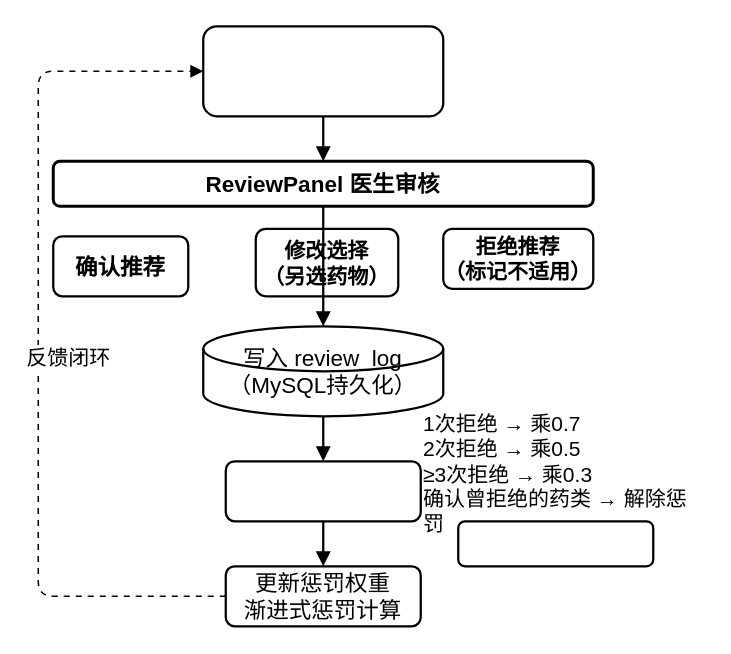
Image size: 731x654. Some labels were removed from this diagram. The box of each missing label's shape, as (x1, y1, x2, y2) in pixels:
DeepFM排序 生成候选药物: (201, 24, 444, 117)
FeedbackLearner 读取审核日志: (224, 459, 421, 522)
渐进式惩罚系数: (456, 519, 654, 567)
